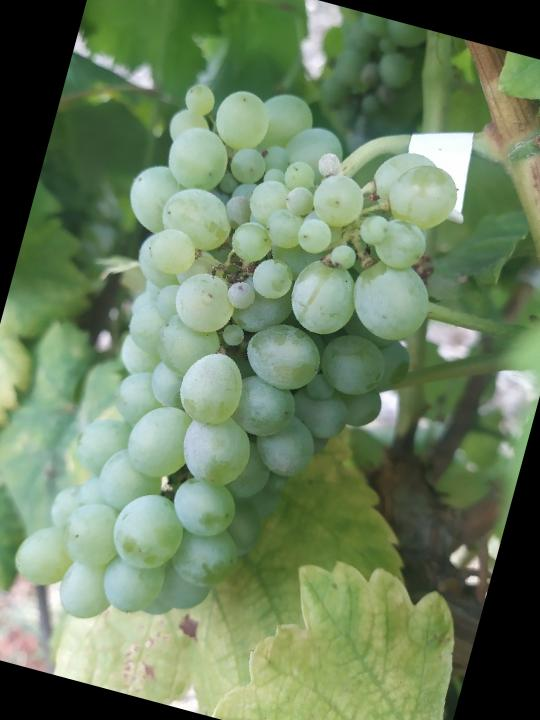grape: (2, 54, 476, 687)
